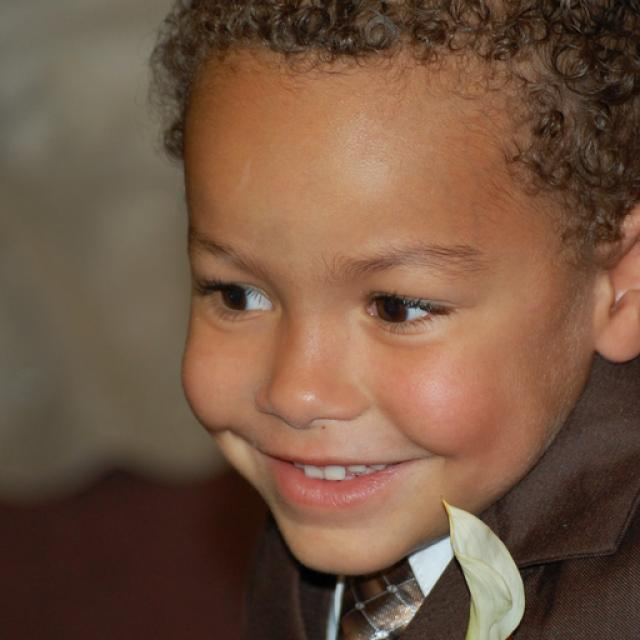happy: (175, 48, 585, 582)
